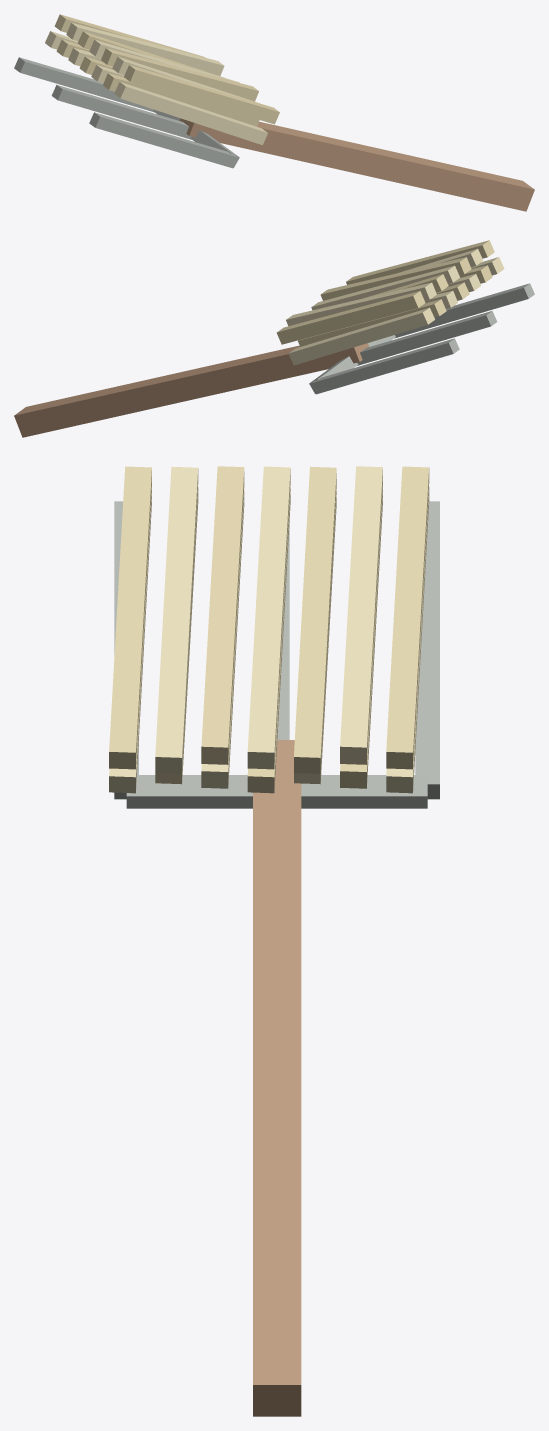
Rendered from crafted-tool-hay-fork-0.glb.
3 renders of one model, top to bottom at view 1: azimuth 30°, elevation 25°; view 2: azimuth 150°, elevation 25°; view 3: azimuth 270°, elevation 25°, orthographic. The views are drawn at different scales.
Parts seen in each view (by area): view 1: handle, hay-13, hay-6, tine-2, tine-1, hay-11, hay-8, tine, hay-5, hay-7, hay-10, hay-9 (+7 smaller); view 2: handle, hay-7, hay, tine, tine-1, tine-2, hay-11, hay-8, hay-10, hay-13, hay-1, fork-shoulder (+7 smaller); view 3: handle, hay-12, hay-9, hay-7, hay-10, hay-13, hay-11, hay-8, fork-shoulder, tine, tine-1, hay-4 (+4 smaller).
Part boxes in pixels (x1,y1,x2,y2): handle: (179,118,534,211); hay-13: (124,65,279,124); hay-6: (114,82,267,144); tine-2: (89,112,237,168); tine-1: (51,85,191,139); hay-11: (101,48,258,101); hay-8: (66,22,224,75); tine: (14,57,154,112); hay-5: (103,73,259,126); hay-7: (54,14,204,57); hay-10: (89,39,239,82); hay-9: (78,31,224,77); handle: (14,343,369,437); hay-7: (276,291,425,344); hay: (288,307,434,365); tine: (311,338,459,394); tine-1: (357,311,497,365); tine-2: (394,283,534,338); hay-11: (320,257,471,300); hay-8: (286,282,436,326); hay-10: (311,265,459,310); hay-13: (346,240,494,284); hay-1: (298,299,446,346); fork-shoulder: (309,335,395,393); handle: (253,740,301,1416); hay-12: (155,466,198,773); hay-9: (294,466,336,773); hay-7: (386,466,429,769); hay-10: (247,466,290,769); hay-13: (109,466,151,769); hay-11: (201,466,244,764); hay-8: (340,466,382,764); fork-shoulder: (126,775,427,808); tine: (415,501,439,799); tine-1: (277,523,289,739); hay-4: (201,488,244,788).
Bounding box in the file's own units: 1.02 × 0.552 × 0.308.
